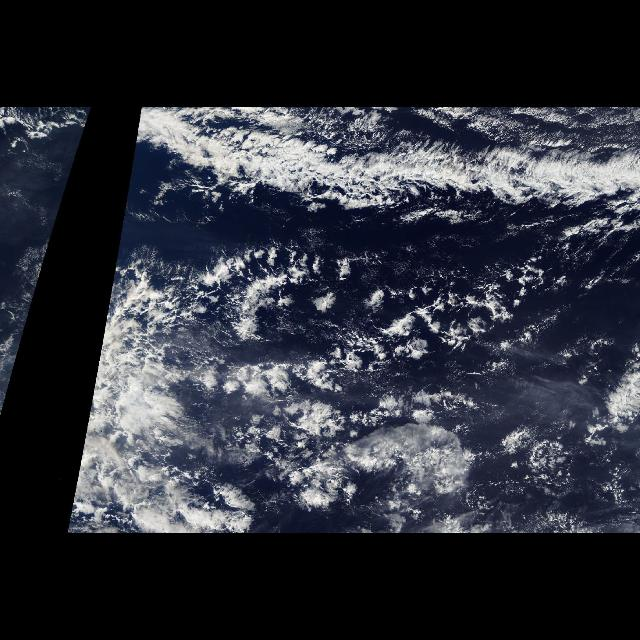Fish: (66, 107, 640, 533), (33, 256, 47, 302)
Flower: (143, 241, 563, 529)
Gravel: (318, 265, 608, 391)
